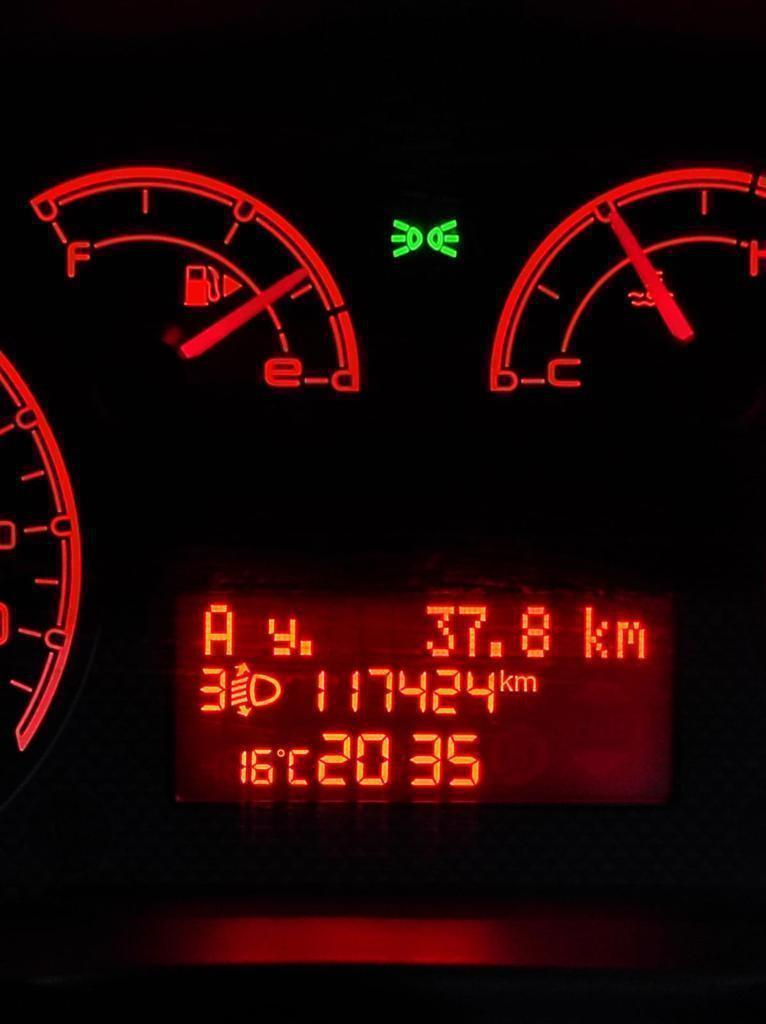,: (297, 638, 314, 657), (488, 640, 504, 659)
0: (354, 733, 392, 787)
1: (350, 668, 361, 714), (316, 667, 326, 715), (240, 749, 248, 785)
2: (316, 731, 352, 787), (432, 667, 461, 716)
3: (409, 731, 442, 786), (425, 605, 456, 658), (200, 666, 227, 712)
4: (398, 668, 427, 715), (465, 669, 495, 714)
6: (250, 748, 274, 786)
7: (458, 604, 487, 657), (367, 665, 394, 716)
8: (519, 605, 551, 661)
X: (581, 603, 612, 665), (203, 602, 234, 657), (612, 616, 646, 661), (268, 615, 296, 656), (287, 748, 308, 786), (514, 674, 537, 693), (500, 667, 514, 692)
odometer: (167, 584, 683, 812)
